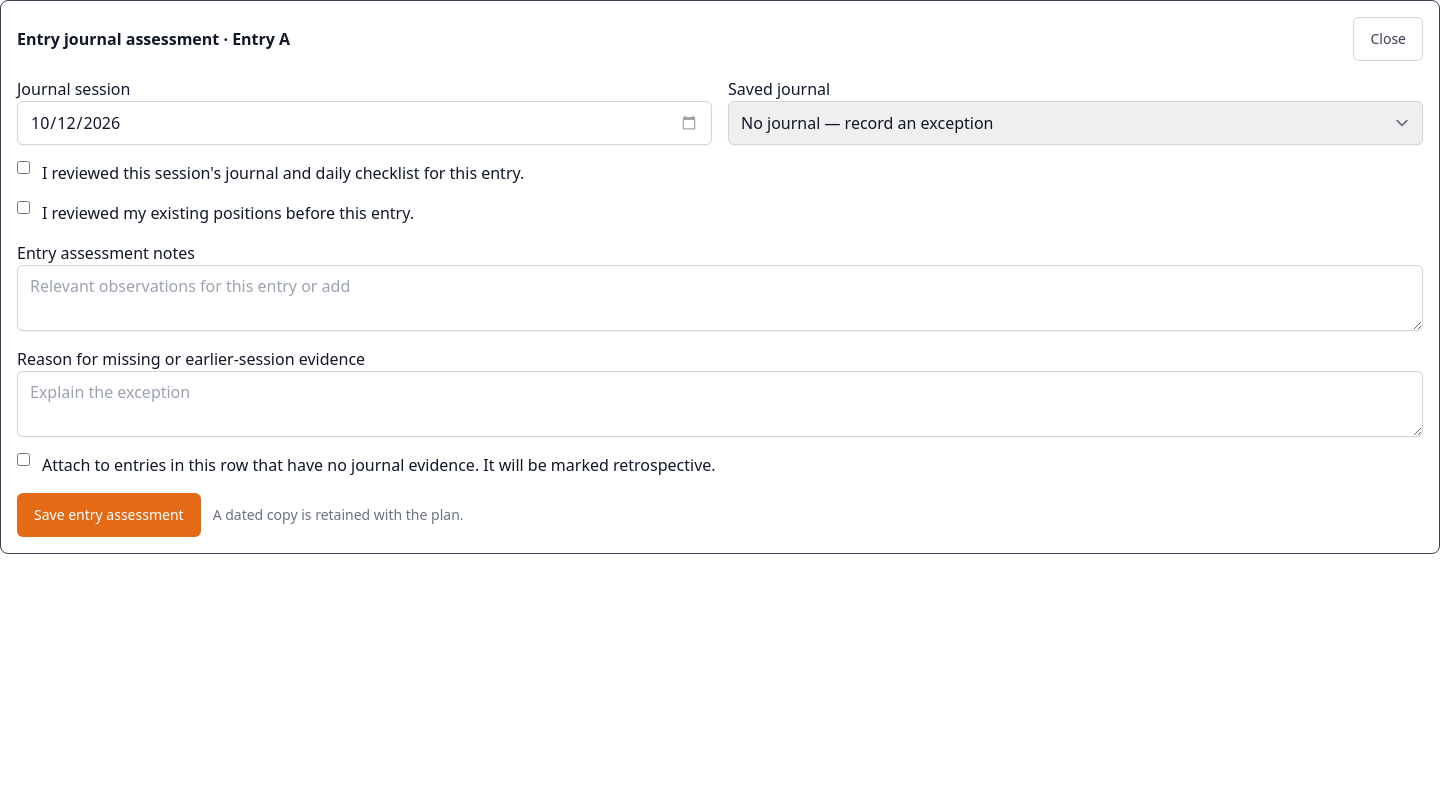
it: Entry journal assessment › allows a reasoned exception and preserves notes after a stale revision response
The width and height of the screenshot is (1440, 810).
Type "Keep these observations" into the text box labelled "Entry assessment notes" at (720, 298), box [17, 265, 1423, 331]
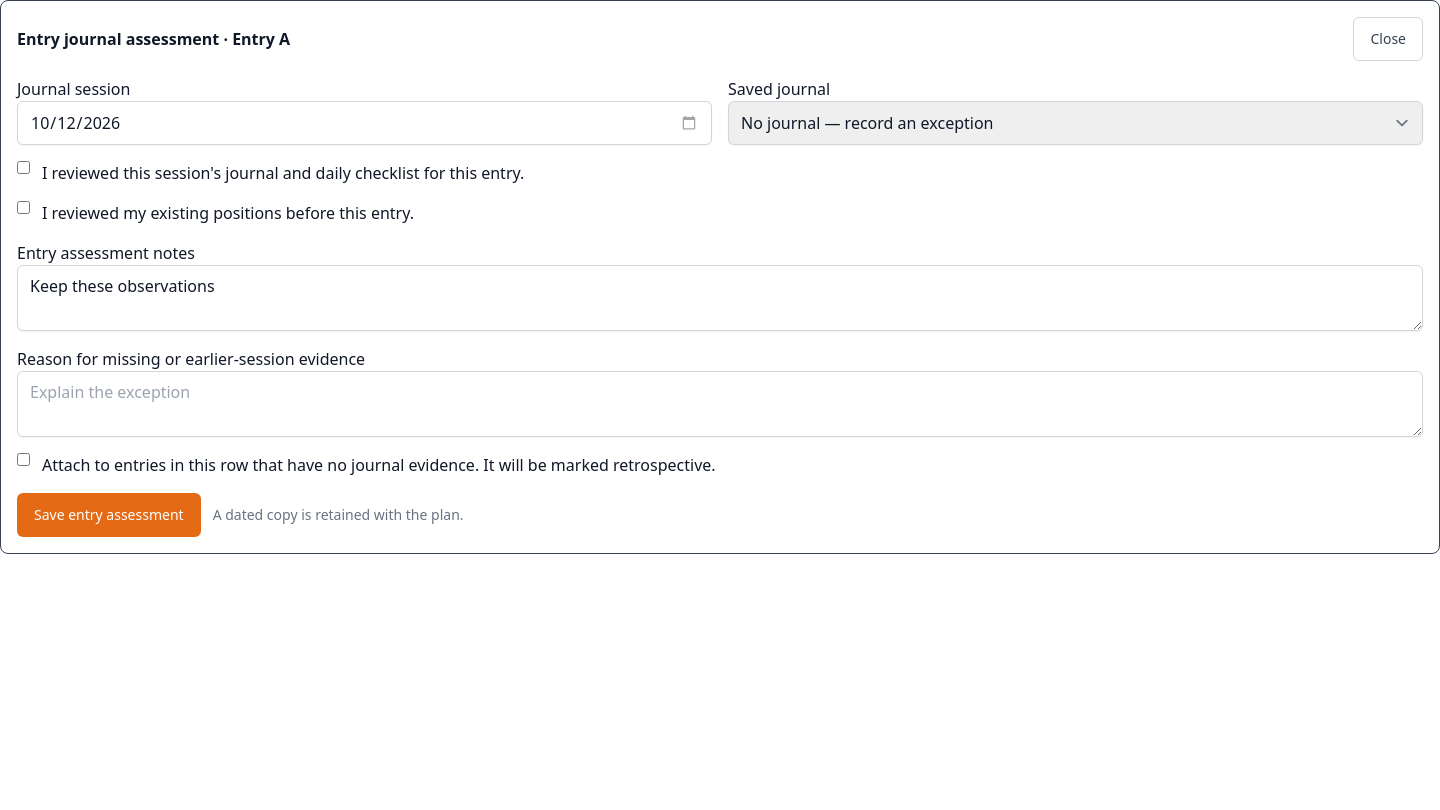
Type "Synthetic exception reason" into the text box labelled "Reason for missing or earlier-session evidence" at (720, 404), box [17, 371, 1423, 437]
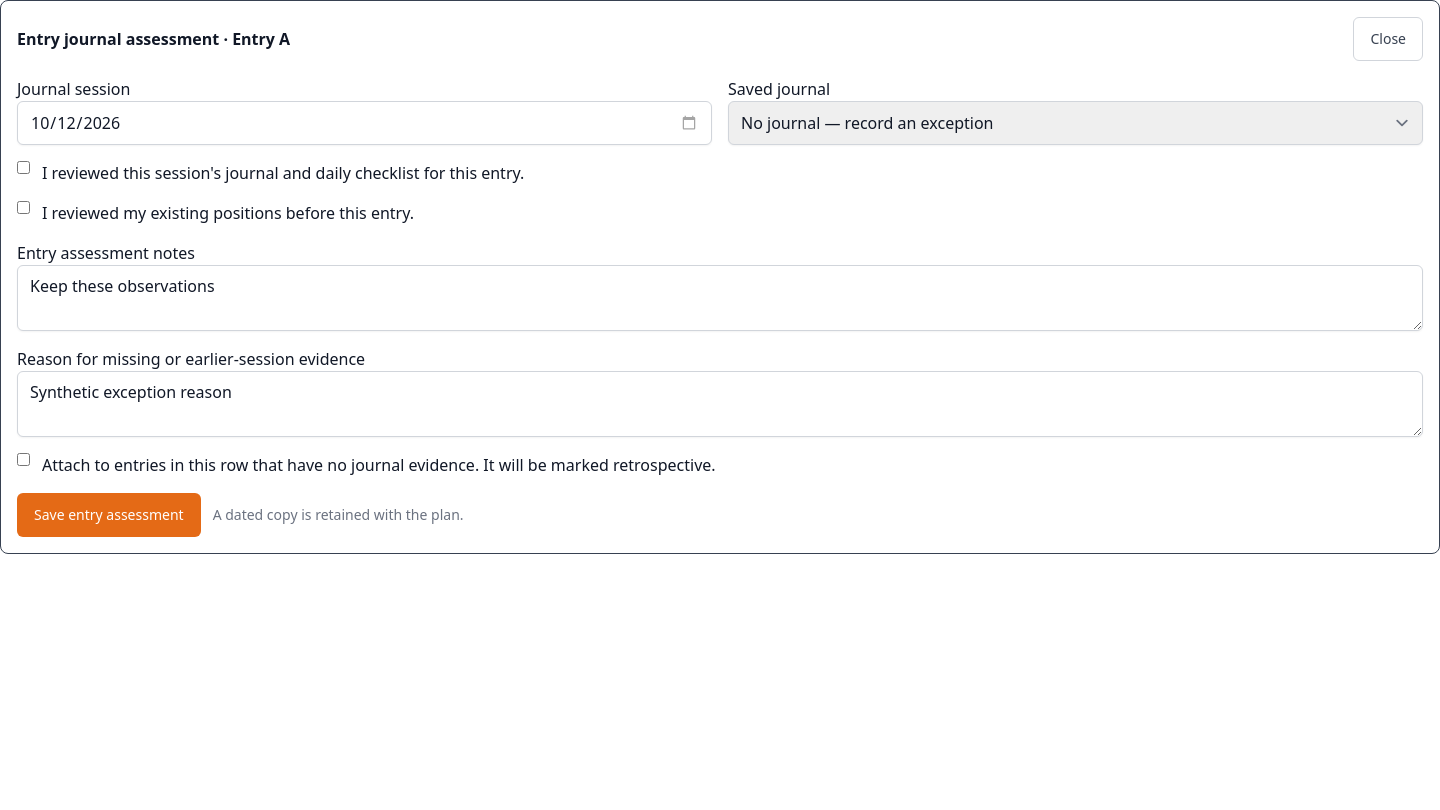
Click the button "Save entry assessment" at (109, 515), box [17, 493, 201, 537]
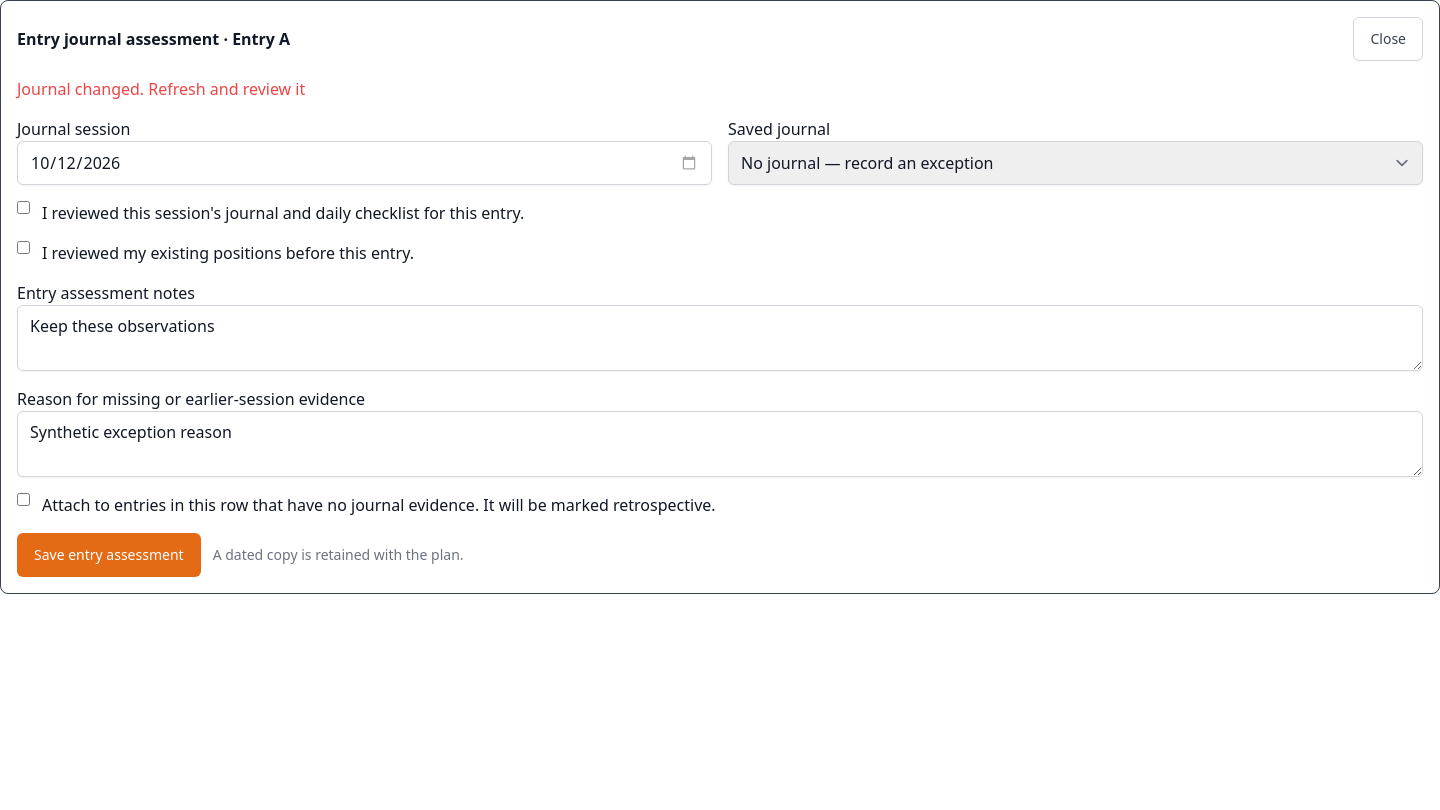
Result: the message "Journal changed. Refresh and review it" is shown at [17, 78, 305, 100]
